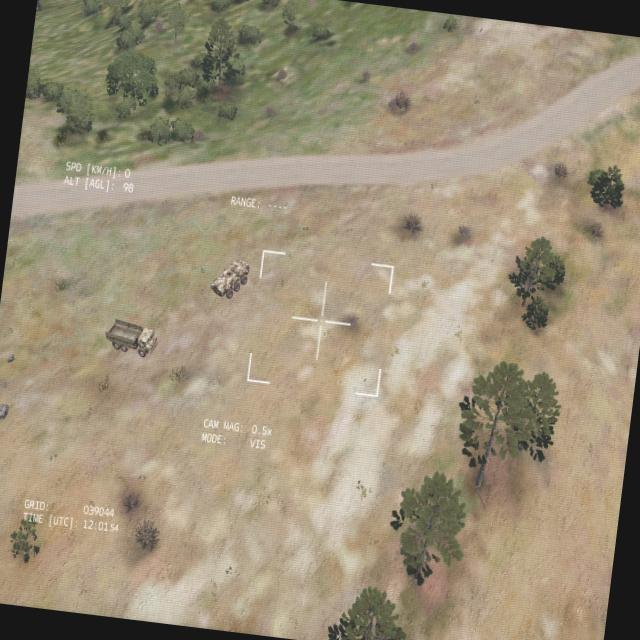apc: (208, 254, 250, 303)
truck: (100, 315, 160, 360)
